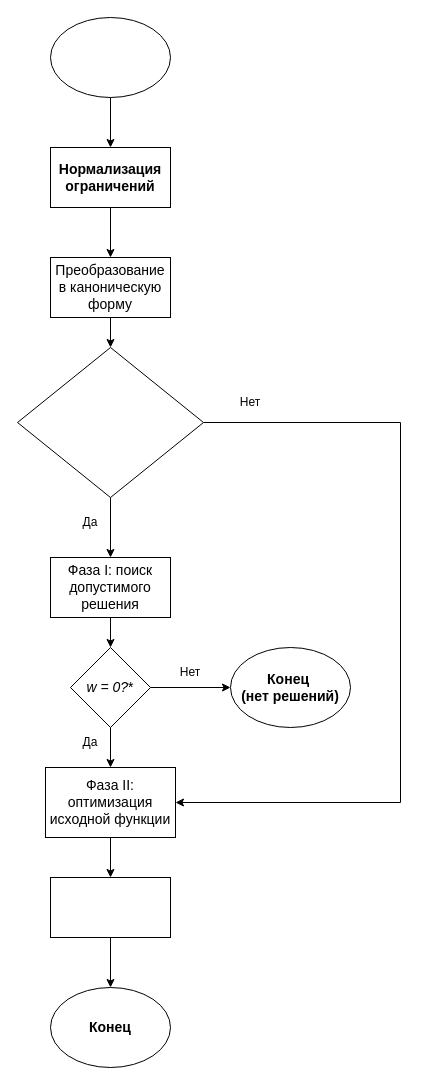
This 426x1085 diagram has some shape labels left out. The centre of each missing label's shape, as x and y in pixels:
Есть искусственные переменные?: point (110, 422)
Извлечение решения: point (110, 907)
Начало: point (110, 57)
